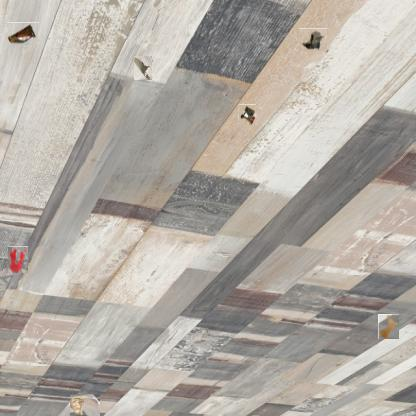dirty: (7, 22, 40, 45), (70, 394, 100, 416), (299, 28, 327, 51), (134, 56, 152, 80), (238, 104, 256, 127)
liquid: (8, 246, 28, 273), (378, 314, 399, 339)
